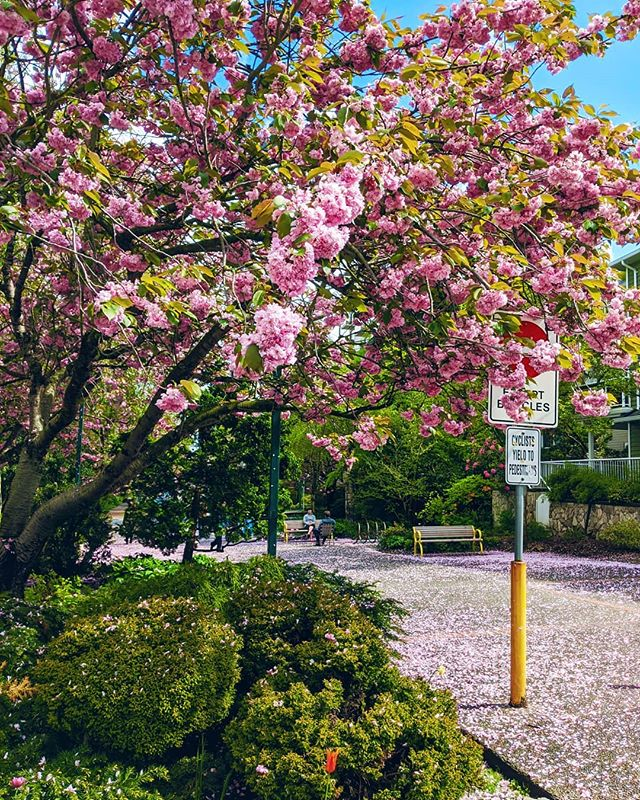bench: (404, 517, 490, 560)
flowers: (1, 1, 640, 443)
tree: (1, 552, 405, 800)
